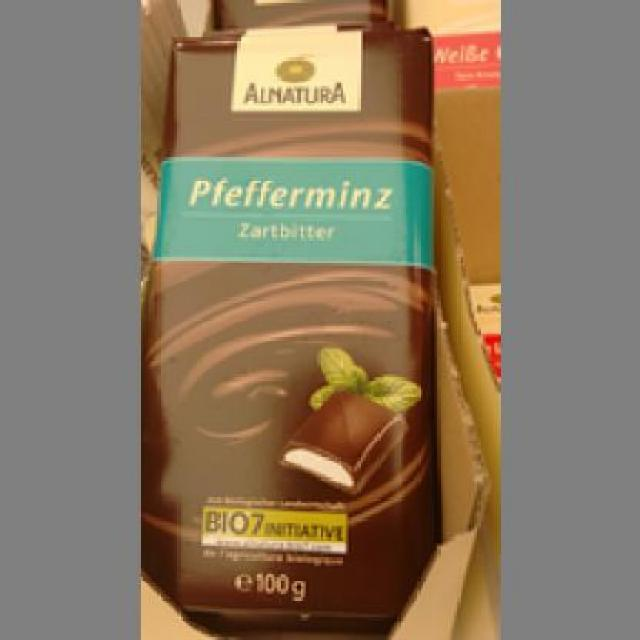Chocolate bar: (137, 33, 440, 616)
